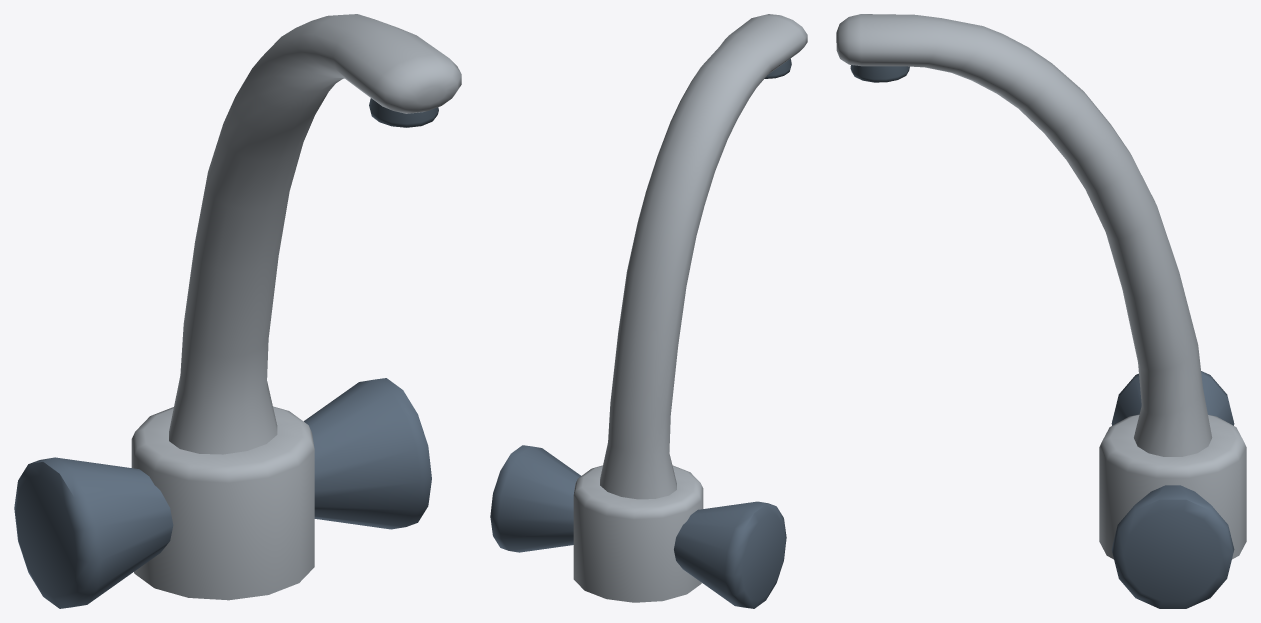
File: Kitchen-Tap-2.fbx
3 renders of one model, left to right at view 1: azimuth 30°, elevation 25°; view 2: azimuth 150°, elevation 25°; view 3: azimuth 270°, elevation 25°, orthographic. The views are drawn at different scales.
Parts seen in each view (by area): view 1: Kitchen-Tap-2; view 2: Kitchen-Tap-2; view 3: Kitchen-Tap-2.
Boxes of the visible parts, <box> form: Kitchen-Tap-2: <box>14,14,461,608</box>; Kitchen-Tap-2: <box>490,14,807,608</box>; Kitchen-Tap-2: <box>836,14,1246,608</box>.
Bounding box in the file's own units: 0.138 × 0.2413 × 0.1715.
